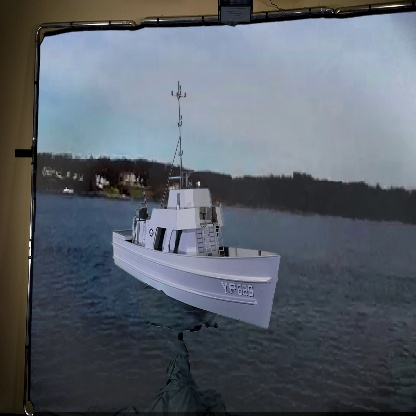YP689: (111, 73, 281, 331)
